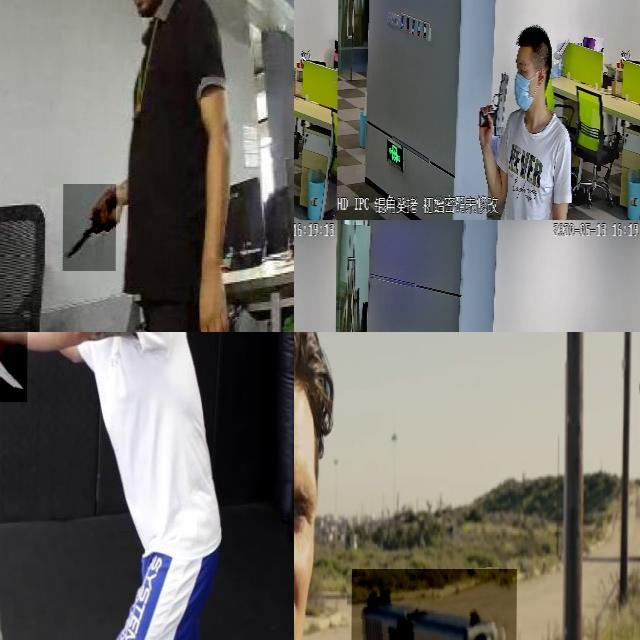-: (63, 184, 117, 271), (0, 332, 42, 402)
gun-knife-thesis - v11 Yolov5 augmented: (475, 66, 509, 133), (294, 68, 315, 128)
